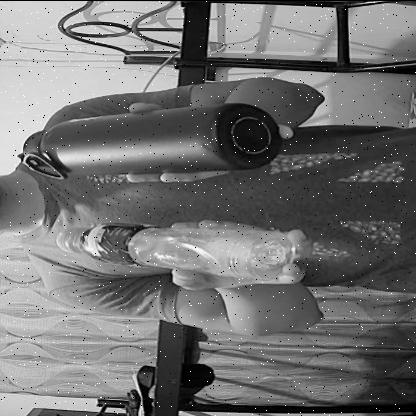Plastic Bottle: (49, 214, 305, 285)
